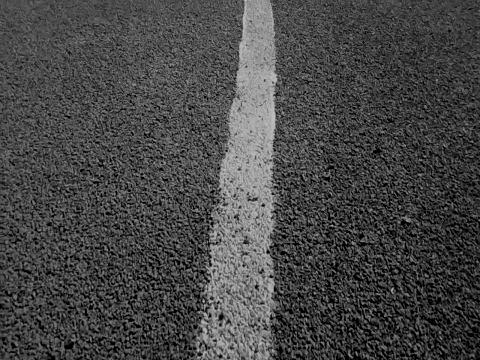Lines: (192, 0, 278, 360)
